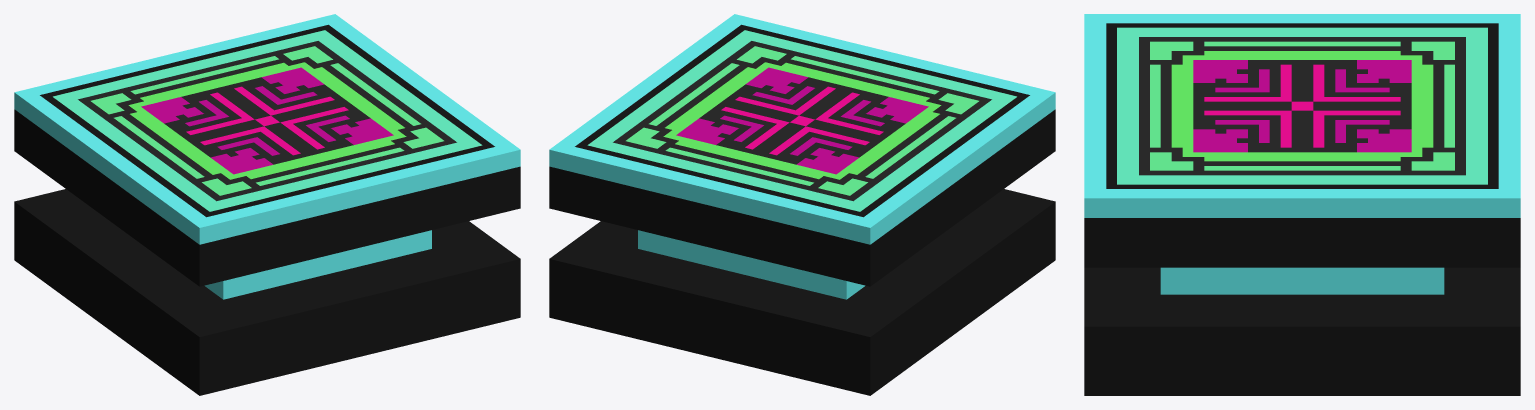
Rendered from PlataformaPuerta.FBX.
3 renders of one model, left to right at view 1: azimuth 30°, elevation 25°; view 2: azimuth 150°, elevation 25°; view 3: azimuth 270°, elevation 25°, orthographic. The views are drawn at different scales.
Visible parts, largest first — view 1: PlataformaPuerta; view 2: PlataformaPuerta; view 3: PlataformaPuerta.
Boxes of the visible parts, x1=… form: PlataformaPuerta: x1=14, y1=14, x2=520, y2=395; PlataformaPuerta: x1=549, y1=14, x2=1055, y2=395; PlataformaPuerta: x1=1084, y1=14, x2=1520, y2=395.
Bounding box in the file's own units: 1 × 0.5 × 1.
Materials: 1 (1 with a texture image).
